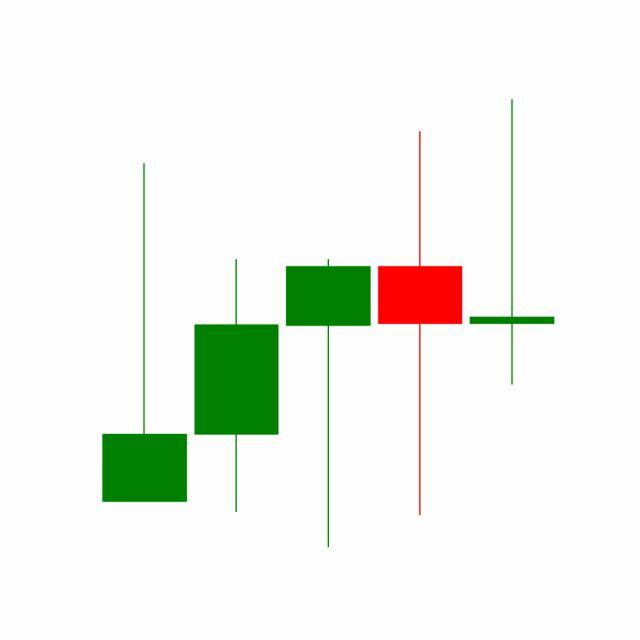Spinning Top: (374, 128, 468, 521)
